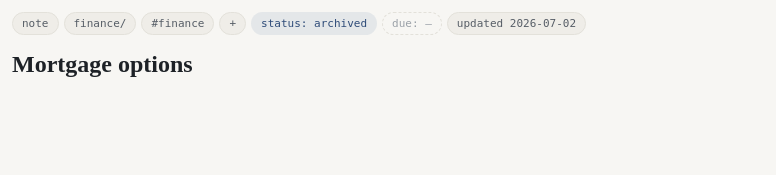
Scenario: archiving is the ⋯ menu's, not this form's › leaves every other control live on an archived document
Click the button "#finance" at [178, 23], box [142, 12, 214, 35]
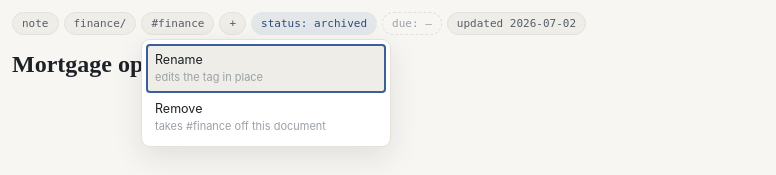
Click the menu item "Remove takes #finance off this document" at [266, 118], box [146, 93, 386, 142]
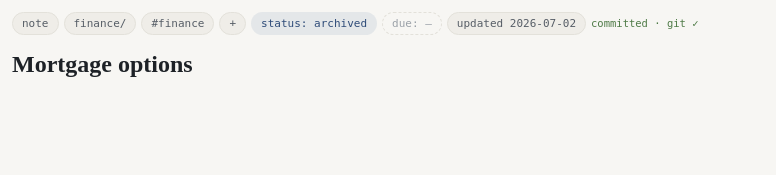
Click the button "due: —" at [412, 23], box [382, 12, 442, 35]
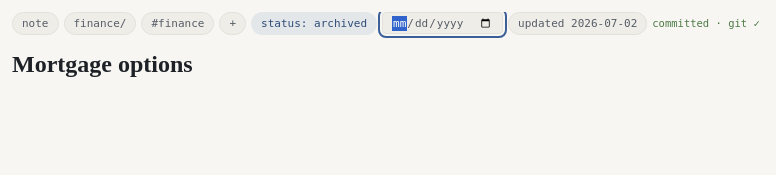
Expected: the date field named "Due date" is enabled, [382, 12, 503, 34]
